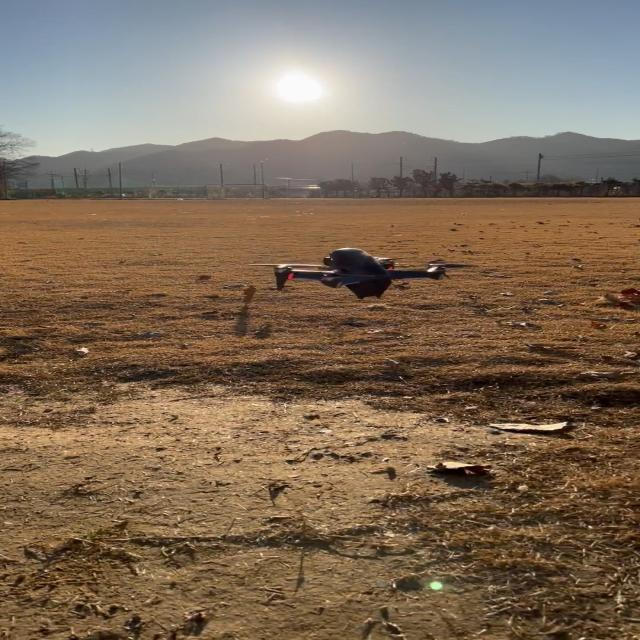drone: (245, 247, 474, 300)
